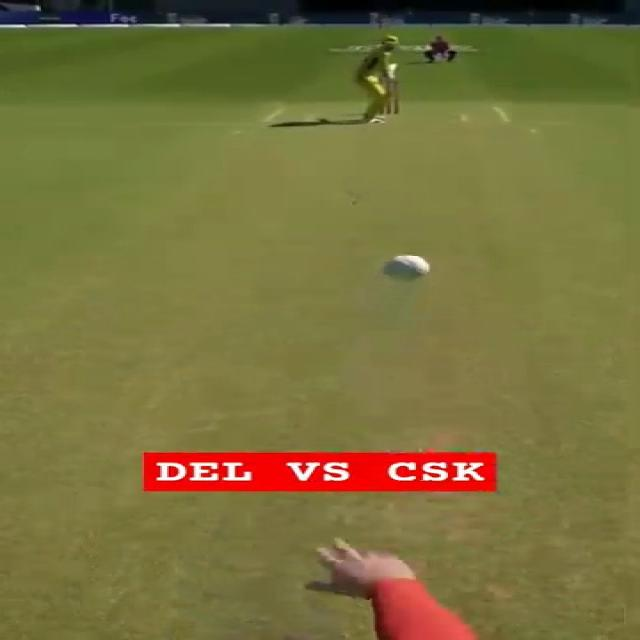ball: (373, 242, 439, 290)
